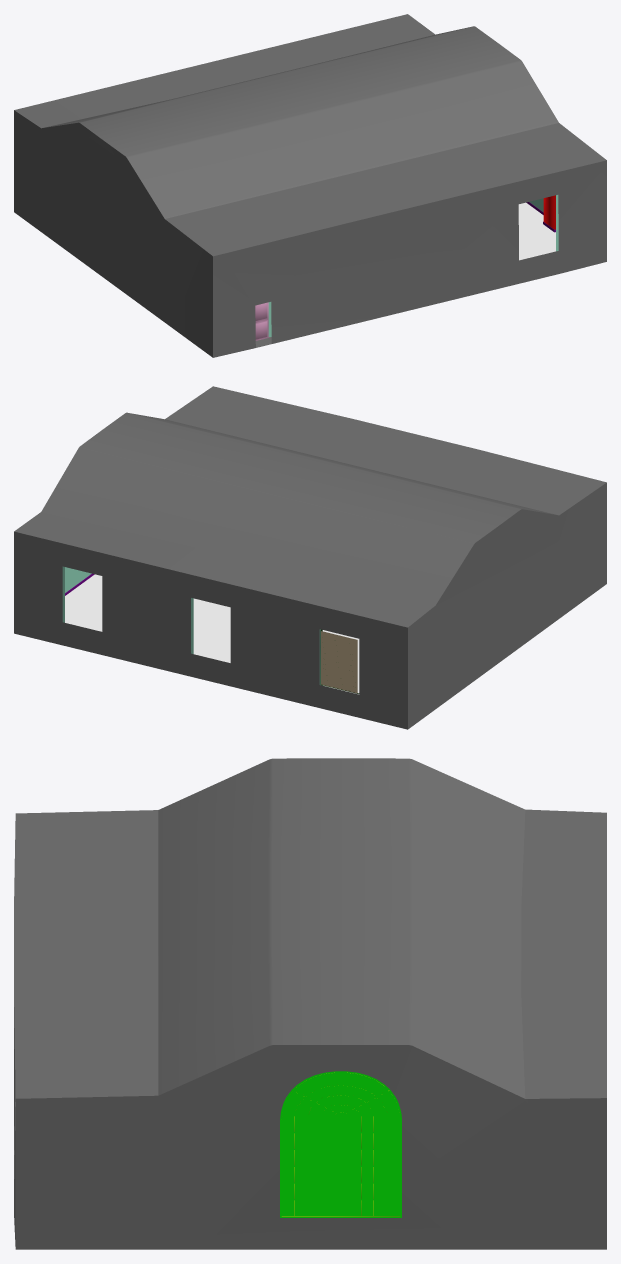
Rendered from Gym_Group.FBX.
The picture shows the model from 3 angles, top to bottom: view 1: azimuth 30°, elevation 25°; view 2: azimuth 150°, elevation 25°; view 3: azimuth 270°, elevation 25°; orthographic projection. The views are drawn at different scales.
Visible parts, largest first — view 1: Room_and_Large_Window, Door; view 2: Room_and_Large_Window, Small_Window; view 3: Room_and_Large_Window.
Part boxes in pixels (x1,y1,x2,y2): Room_and_Large_Window: (14,14,606,357); Door: (255,302,269,340); Room_and_Large_Window: (14,386,606,729); Small_Window: (320,629,359,693); Room_and_Large_Window: (14,758,606,1249).
Size of the model in its own units: 2333 by 778 by 2039.
